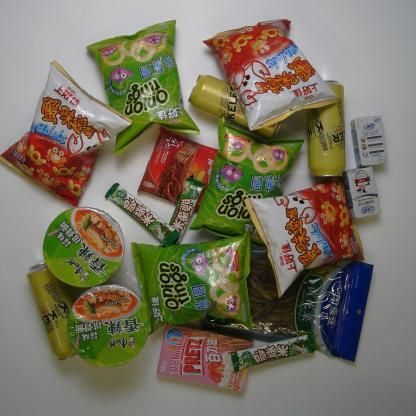Alcohol: (187, 72, 284, 140), (25, 258, 86, 362), (306, 76, 348, 179)
Chocolate: (103, 182, 181, 250), (230, 330, 318, 375), (159, 175, 206, 248)
Dessert: (134, 124, 221, 214), (155, 321, 255, 395)
Dried Food: (196, 228, 374, 365)
Instant Noodles: (65, 282, 151, 369), (41, 204, 126, 289)
Milk: (349, 114, 391, 170), (341, 164, 383, 220)
Puffed Food: (2, 59, 134, 210), (84, 16, 202, 158), (201, 15, 341, 133), (186, 116, 305, 250), (242, 175, 366, 299), (128, 228, 257, 336)
